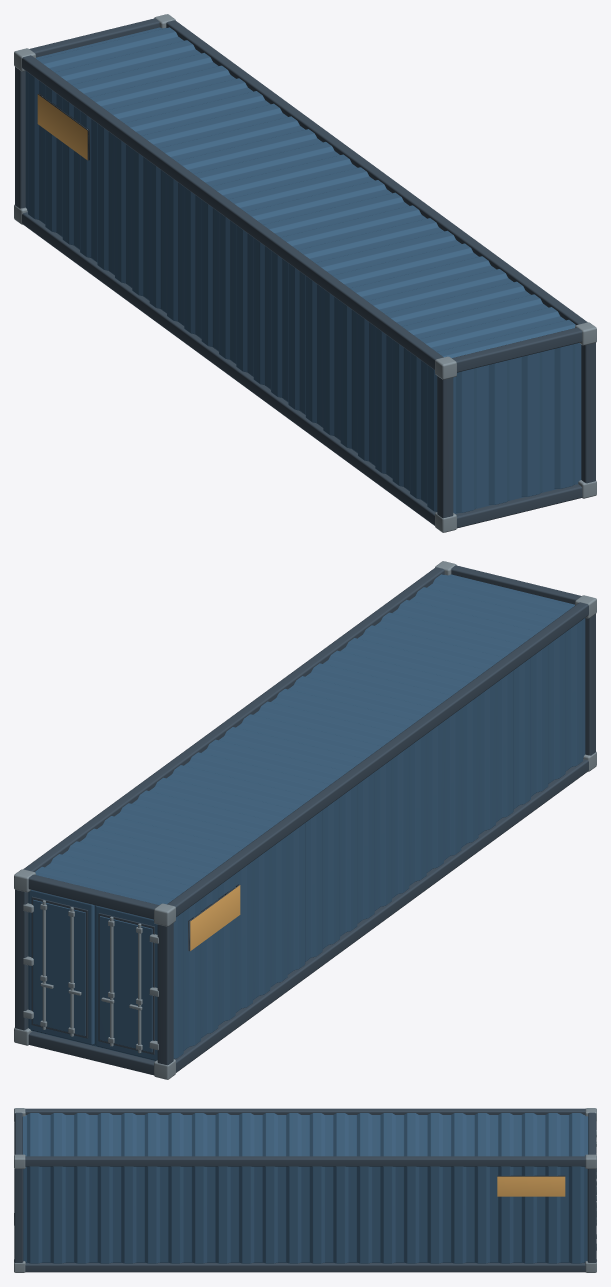
File: d09_storage_01.glb
3 views of the same model, one above another, from view 1: azimuth 30°, elevation 25°; view 2: azimuth 150°, elevation 25°; view 3: azimuth 270°, elevation 25° (orthographic). The views are drawn at different scales.
Visible parts, largest first — view 1: D09Storage01_Mesh; view 2: D09Storage01_Mesh; view 3: D09Storage01_Mesh.
Part boxes in pixels (x1,y1,x2,y2): D09Storage01_Mesh: [14, 14, 596, 532]; D09Storage01_Mesh: [14, 561, 596, 1079]; D09Storage01_Mesh: [14, 1108, 596, 1272].
Bounding box in the file's own units: 2.5 × 2.6 × 12.
